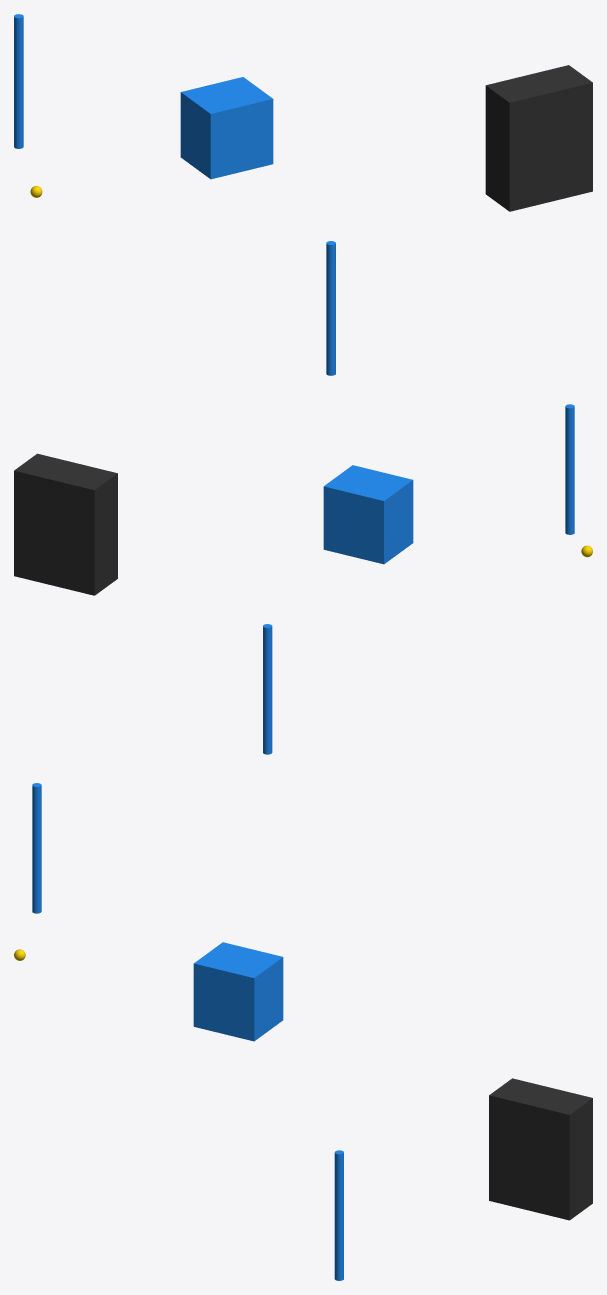
Rendered from robot.glb.
3 views of the same model, one above another, from view 1: azimuth 30°, elevation 25°; view 2: azimuth 150°, elevation 25°; view 3: azimuth 330°, elevation 25° (orthographic). The views are drawn at different scales.
Parts seen in each view (by area): view 1: base, head, armL, legL; view 2: base, head, armL, legL; view 3: base, head, armL, legL.
Part boxes in pixels (left/top/right/bottom): base: left=485, top=65, right=592, bottom=211; head: left=180, top=77, right=273, bottom=179; armL: left=14, top=14, right=23, bottom=148; legL: left=326, top=241, right=335, bottom=375; base: left=14, top=453, right=117, bottom=595; head: left=323, top=465, right=413, bottom=564; armL: left=565, top=404, right=574, bottom=534; legL: left=263, top=624, right=272, bottom=754; base: left=489, top=1078, right=592, bottom=1220; head: left=193, top=942, right=283, bottom=1041; armL: left=32, top=783, right=41, bottom=913; legL: left=334, top=1150, right=343, bottom=1280.
Bounding box in the file's own units: 2.73 × 1.99 × 0.297.
